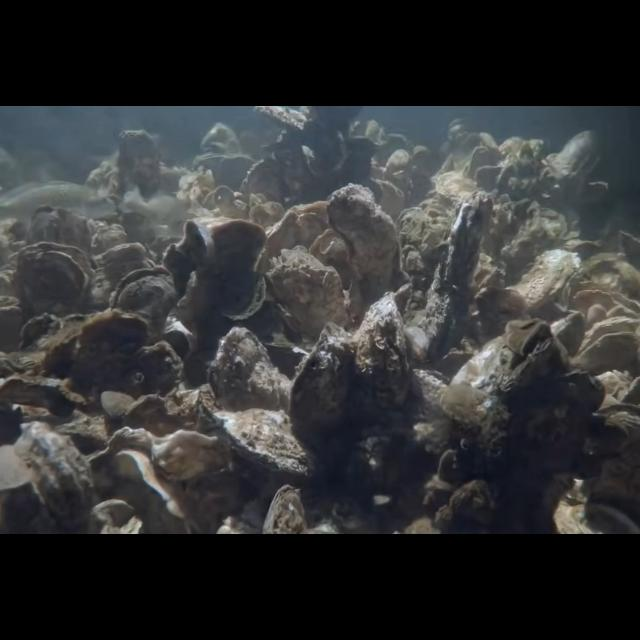Oyster-Closed: (426, 190, 494, 330), (14, 422, 94, 534), (326, 183, 400, 301), (204, 408, 318, 484), (288, 322, 356, 448), (41, 308, 149, 376), (266, 245, 344, 339), (354, 292, 410, 414), (206, 326, 284, 412), (210, 218, 268, 320), (502, 249, 582, 315), (395, 206, 439, 300), (127, 340, 183, 398), (262, 484, 306, 534), (550, 312, 586, 361), (100, 390, 138, 420)
Oyster-Open: (448, 318, 558, 398), (16, 239, 96, 313), (112, 266, 178, 340), (570, 316, 640, 378), (163, 218, 210, 288)
